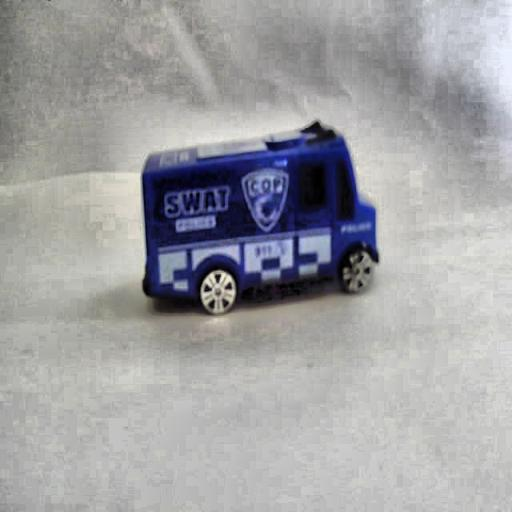police car: (137, 134, 381, 318)
